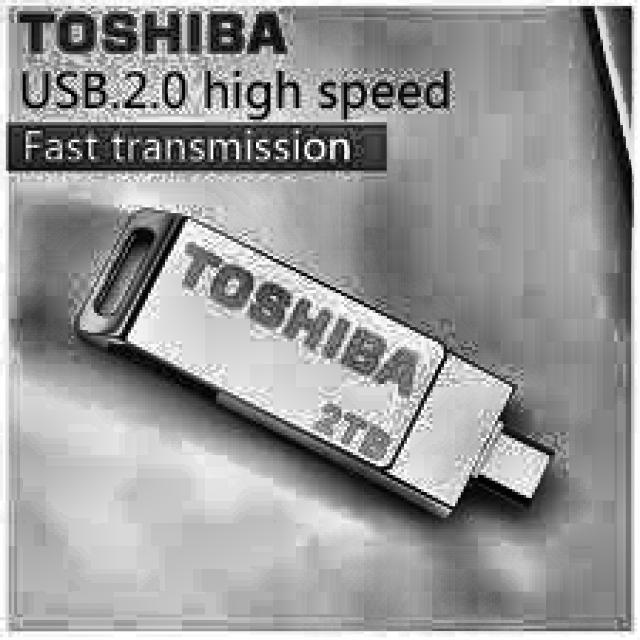Mug: (65, 185, 565, 531)
